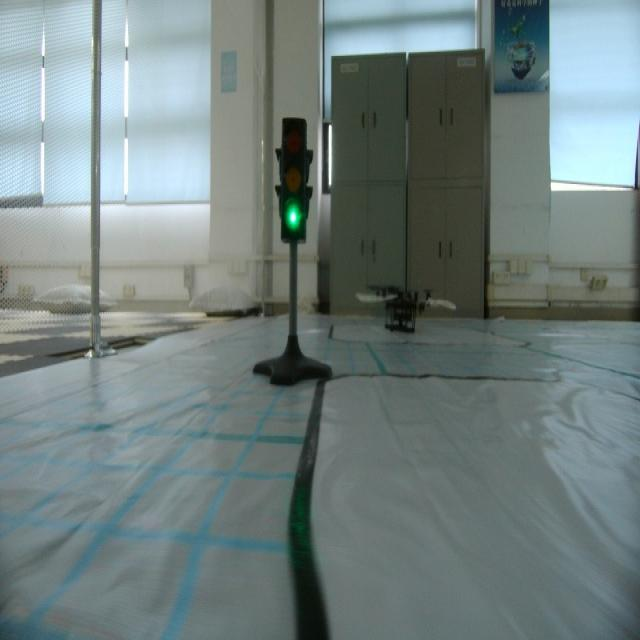green: (273, 115, 310, 247)
